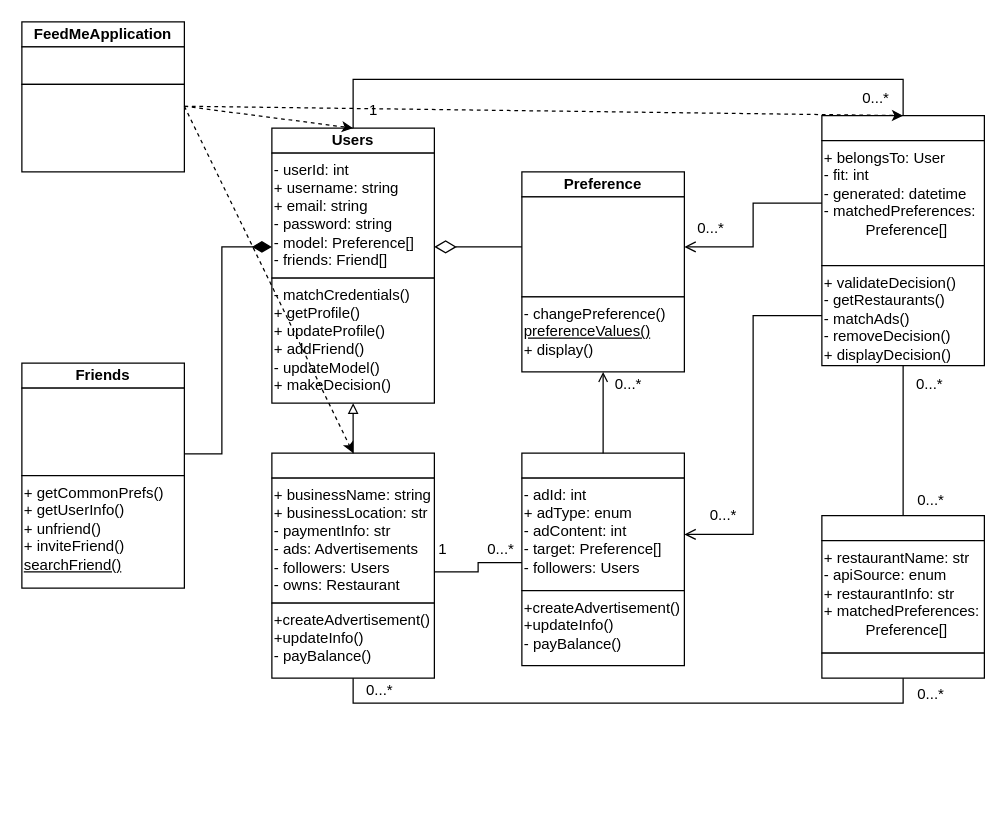
This 1006x838 diagram has some shape labels left out. Each missing label, with the centre of its shape:
"+ login() + newUser() + main()" belongs at (x=102, y=127).
"+ users: Users[]" belongs at (x=102, y=65).
"- friendId: int - friendUserId: int + friendSince: datetime + numInvited: int" belongs at (x=102, y=431).
"- preferenceId: int + preferenceType: int + value: enum - created: datetime" belongs at (x=602, y=246).
"Advertisement" belongs at (x=602, y=465).
"Business" belongs at (x=352, y=465).
"Decision" belongs at (x=902, y=127).
"Restaurants" belongs at (x=902, y=527).
